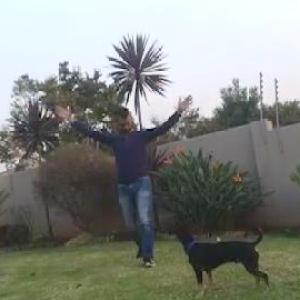takeoff: (51, 92, 192, 255)
